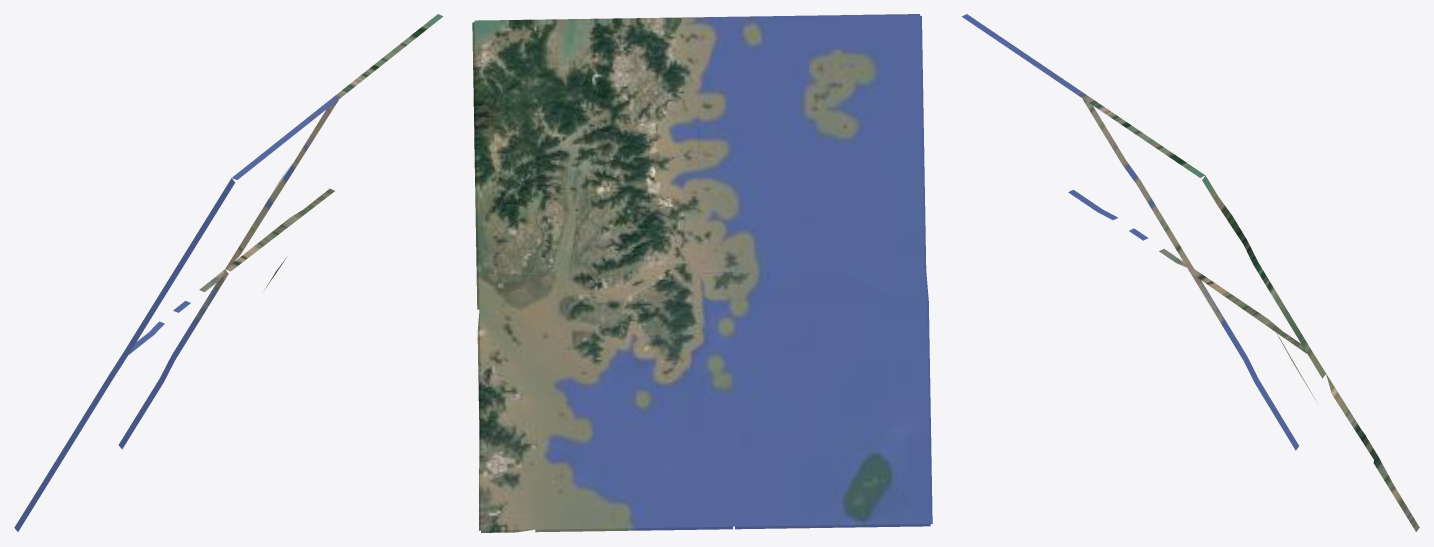
The picture shows the model from 3 angles, left to right: view 1: azimuth 30°, elevation 25°; view 2: azimuth 150°, elevation 25°; view 3: azimuth 270°, elevation 25°; orthographic projection. The views are drawn at different scales.
Bounding box in the file's own units: 79252 × 69086 × 69673.
Materials: 1 (1 with a texture image).
